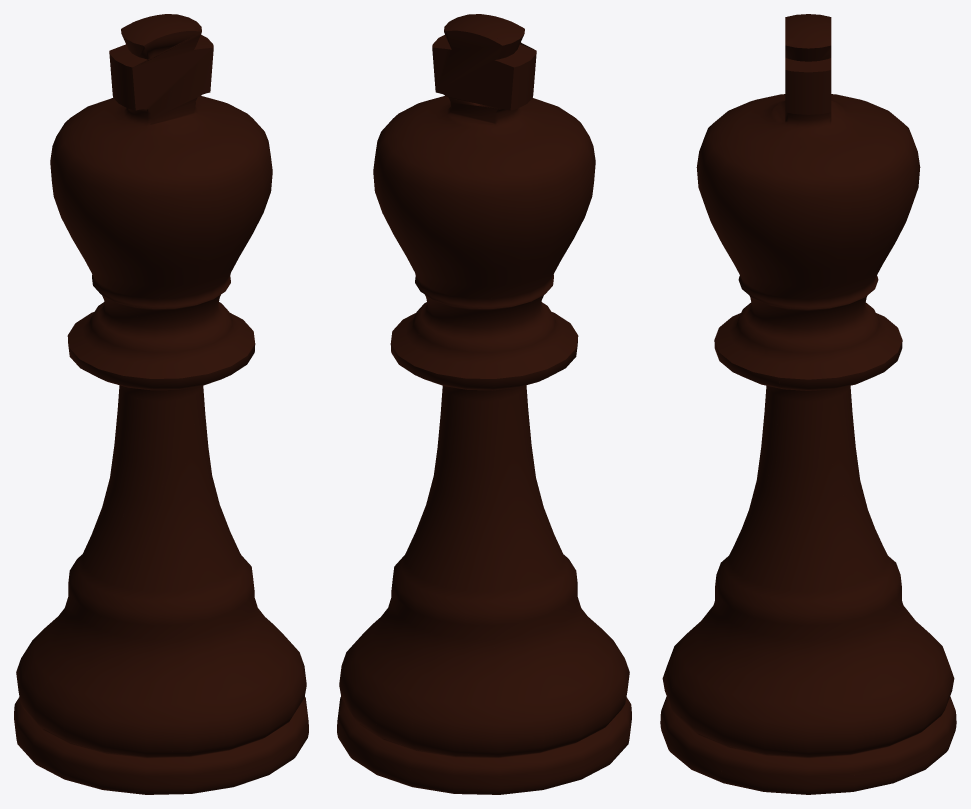
3 renders of one model, left to right at view 1: azimuth 30°, elevation 25°; view 2: azimuth 150°, elevation 25°; view 3: azimuth 270°, elevation 25°, orthographic.
Visible parts, largest first — view 1: RE01; view 2: RE01; view 3: RE01.
Boxes of the visible parts, box(x1,y1,x2,y2) form: RE01: box(14, 14, 308, 794); RE01: box(337, 14, 631, 794); RE01: box(660, 14, 956, 794).
Bounding box in the file's own units: 186 × 494 × 186.
